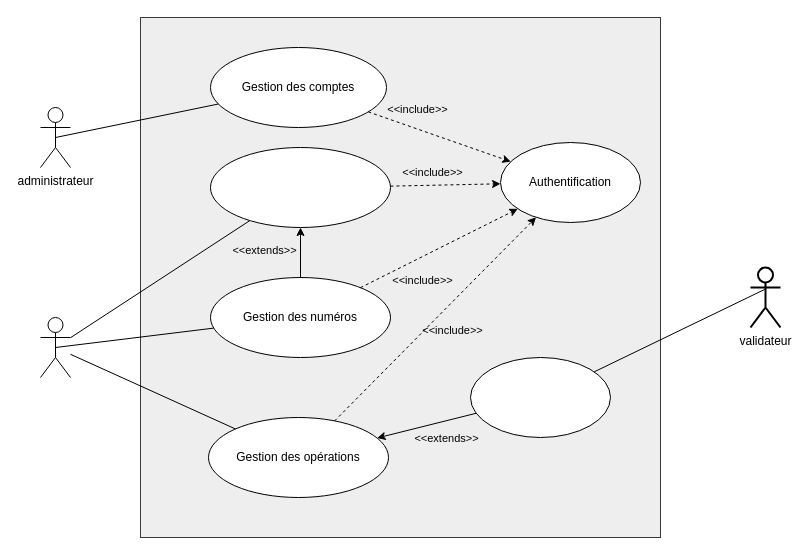
Some shapes in this 808 by 555 pixel diagram are drawn without their labels. The shapes that lost their labels are listed below. From the top down, each one's centre as x and y in pixels, then its label:
At point 300,187: "Gestion des intermèdes".
At point 55,347: "agent".
At point 540,397: "Gestion des messages".
